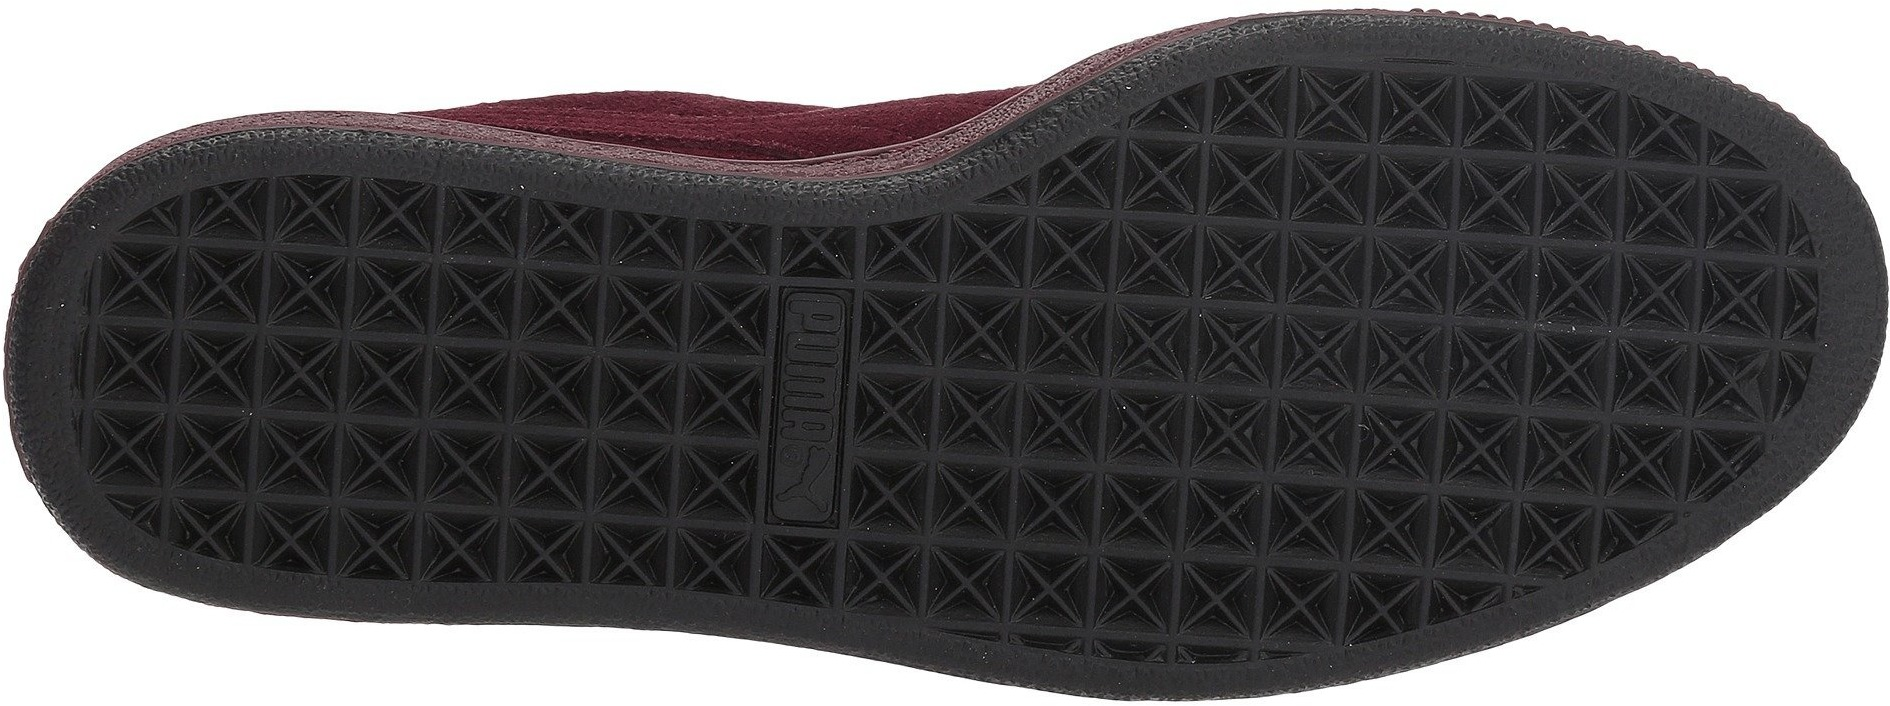quad: (1121, 94, 1614, 565), (691, 254, 998, 569), (142, 235, 434, 511), (667, 266, 947, 540), (423, 245, 691, 512), (1596, 245, 1786, 435)
star: (1121, 94, 1614, 565), (691, 254, 998, 569), (142, 235, 434, 511), (423, 245, 691, 512), (1596, 245, 1786, 435)
text: (691, 254, 998, 569), (775, 289, 850, 364), (771, 367, 846, 442)
triangle: (1121, 94, 1614, 565), (691, 254, 998, 569), (142, 235, 434, 511), (667, 266, 947, 540), (423, 245, 691, 512), (1596, 245, 1786, 435)
